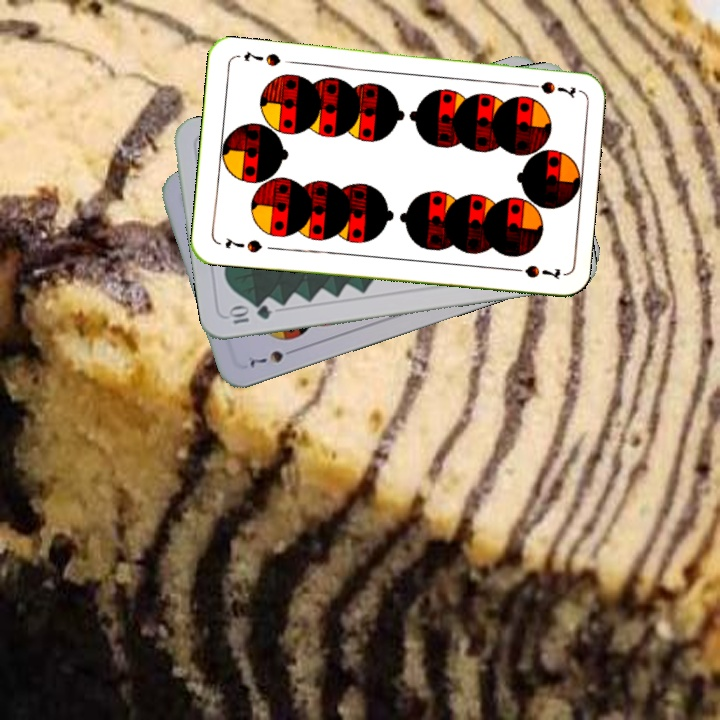G10: (225, 301, 274, 327)
S7: (246, 344, 300, 370), (521, 77, 578, 101), (221, 233, 265, 256)
